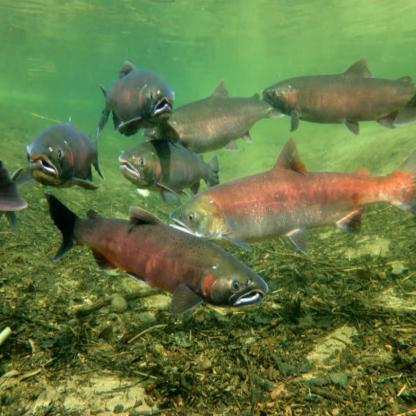sockeye: (48, 201, 261, 314), (184, 61, 416, 145), (181, 162, 412, 243), (24, 112, 106, 196), (98, 60, 170, 133), (120, 138, 222, 188)
